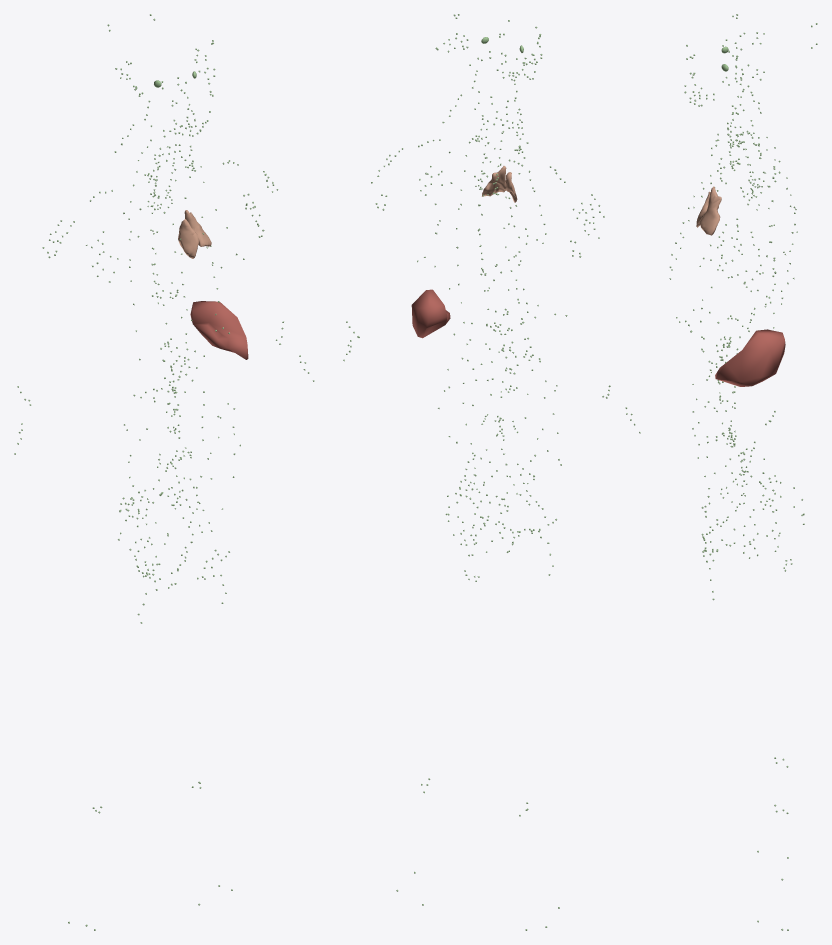
The model's file is adult_male.lymphatic.LOD3.glb.
3 views of the same model, side by side, from view 1: azimuth 30°, elevation 25°; view 2: azimuth 150°, elevation 25°; view 3: azimuth 270°, elevation 25° (orthographic).
Parts seen in each view (by area): view 1: ADULT.MALE.LYMPHATIC.SPLEEN; view 2: ADULT.MALE.LYMPHATIC.SPLEEN; view 3: ADULT.MALE.LYMPHATIC.SPLEEN, ADULT.MALE.LYMPHATIC.LEFT_LOBE_OF_THYMUS.
Part boxes in pixels (bbox=[...]): ADULT.MALE.LYMPHATIC.SPLEEN: bbox=[190, 301, 248, 359]; ADULT.MALE.LYMPHATIC.SPLEEN: bbox=[411, 289, 450, 338]; ADULT.MALE.LYMPHATIC.SPLEEN: bbox=[715, 329, 785, 386]; ADULT.MALE.LYMPHATIC.LEFT_LOBE_OF_THYMUS: bbox=[699, 186, 721, 235].
Bounding box in the file's own units: 0.4523 × 1.28 × 0.1965.
